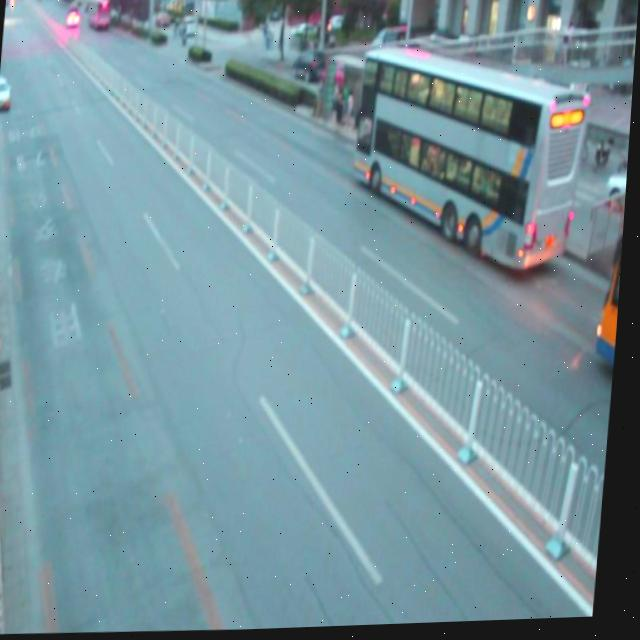van: (346, 44, 592, 280), (594, 202, 628, 388)
